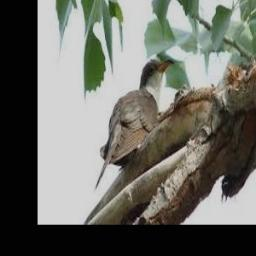Cuckoo: (95, 58, 174, 191)
